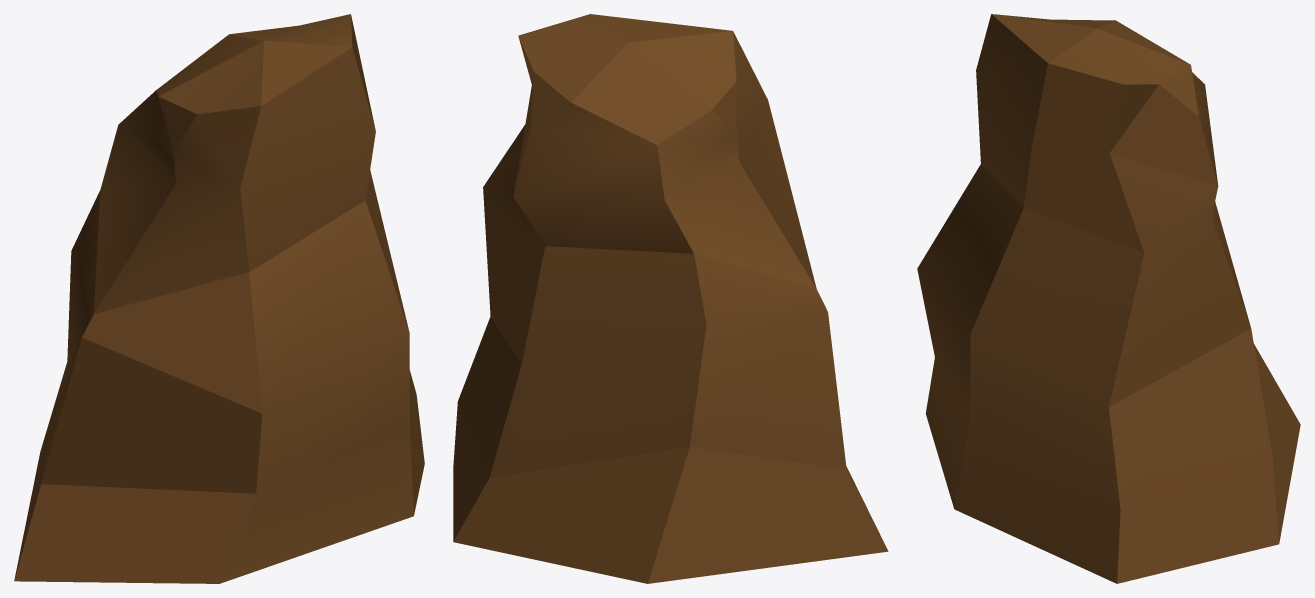
File: Rock2.FBX
3 views of the same model, side by side, from view 1: azimuth 30°, elevation 25°; view 2: azimuth 150°, elevation 25°; view 3: azimuth 270°, elevation 25° (orthographic). The views are drawn at different scales.
Visible parts, largest first — view 1: Rock2; view 2: Rock2; view 3: Rock2.
Boxes of the visible parts, x1,y1,x2,y2 form: Rock2: (14,14,424,583); Rock2: (453,14,888,583); Rock2: (917,14,1300,583).
Size of the model in its own units: 265 by 278 by 204.
